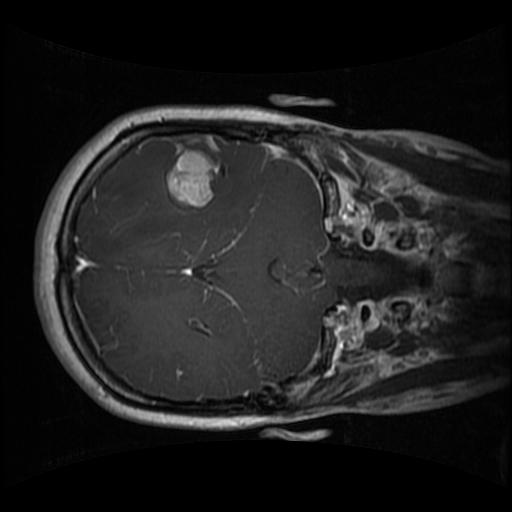glioma: (161, 134, 228, 214)
